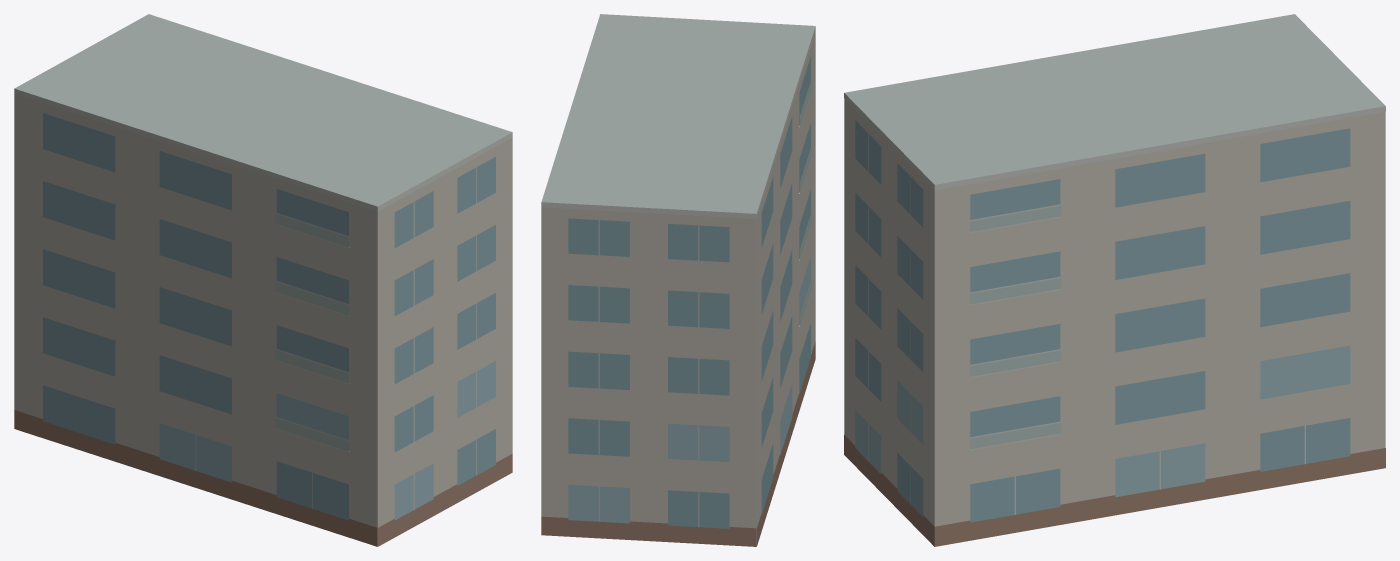
File: survey-upis-32755119.glb
The picture shows the model from 3 angles, left to right: view 1: azimuth 30°, elevation 25°; view 2: azimuth 150°, elevation 25°; view 3: azimuth 270°, elevation 25°; orthographic projection. The views are drawn at different scales.
Parts seen in each view (by area): view 1: survey-upis-32755119.tmp; view 2: survey-upis-32755119.tmp; view 3: survey-upis-32755119.tmp.
Boxes of the visible parts, x1,y1,x2,y2 form: survey-upis-32755119.tmp: [14, 14, 512, 546]; survey-upis-32755119.tmp: [541, 14, 815, 546]; survey-upis-32755119.tmp: [844, 14, 1385, 546].
Size of the model in its own units: 16.21 by 16 by 21.71.
